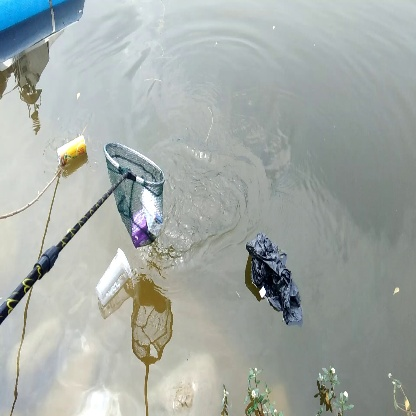bottle: (91, 246, 137, 309), (54, 133, 92, 167)
plastic-bag: (245, 228, 309, 328)
